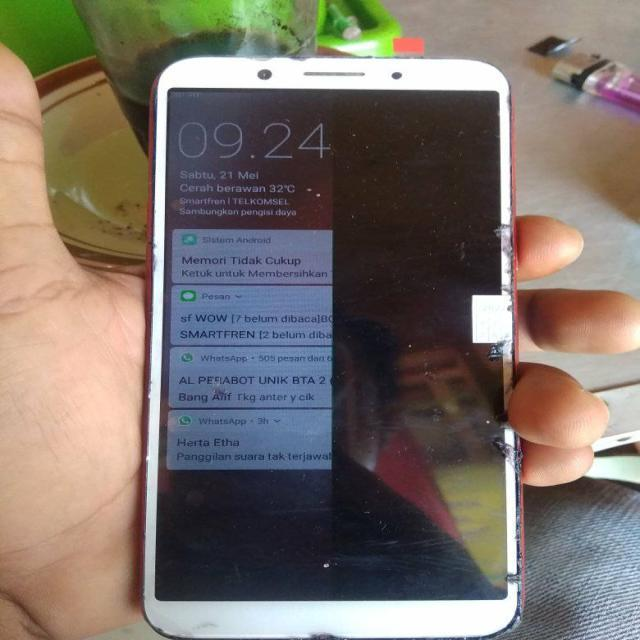phone: (159, 56, 541, 640)
